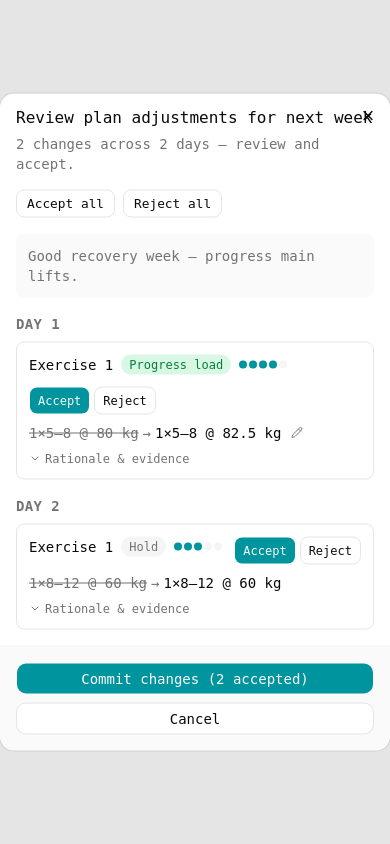
AdjustmentReviewModal › "Reject all" button marks all adjustments as rejected
Click the button "Reject all" at (172, 204), box [123, 190, 222, 218]
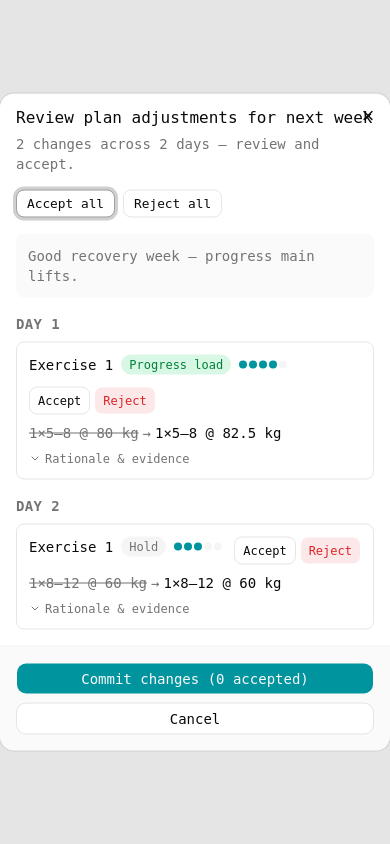
expect the button "Commit changes (0 accepted)" is shown: met, box [16, 662, 374, 694]
